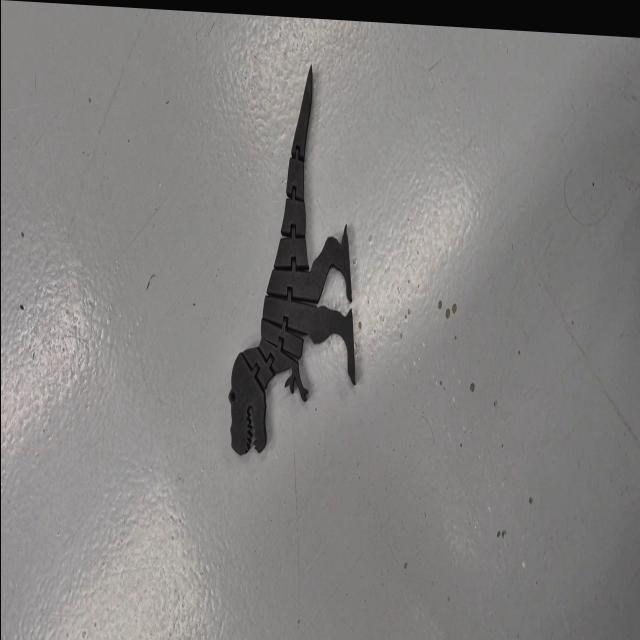dino: (227, 58, 355, 464)
